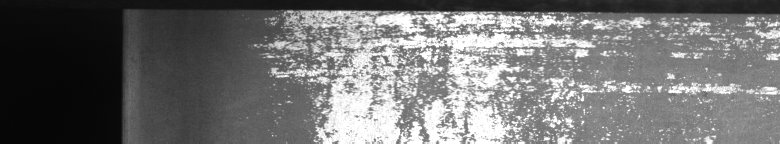kb: (254, 4, 776, 136)
